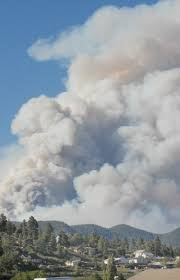smoke: (30, 45, 180, 214)
